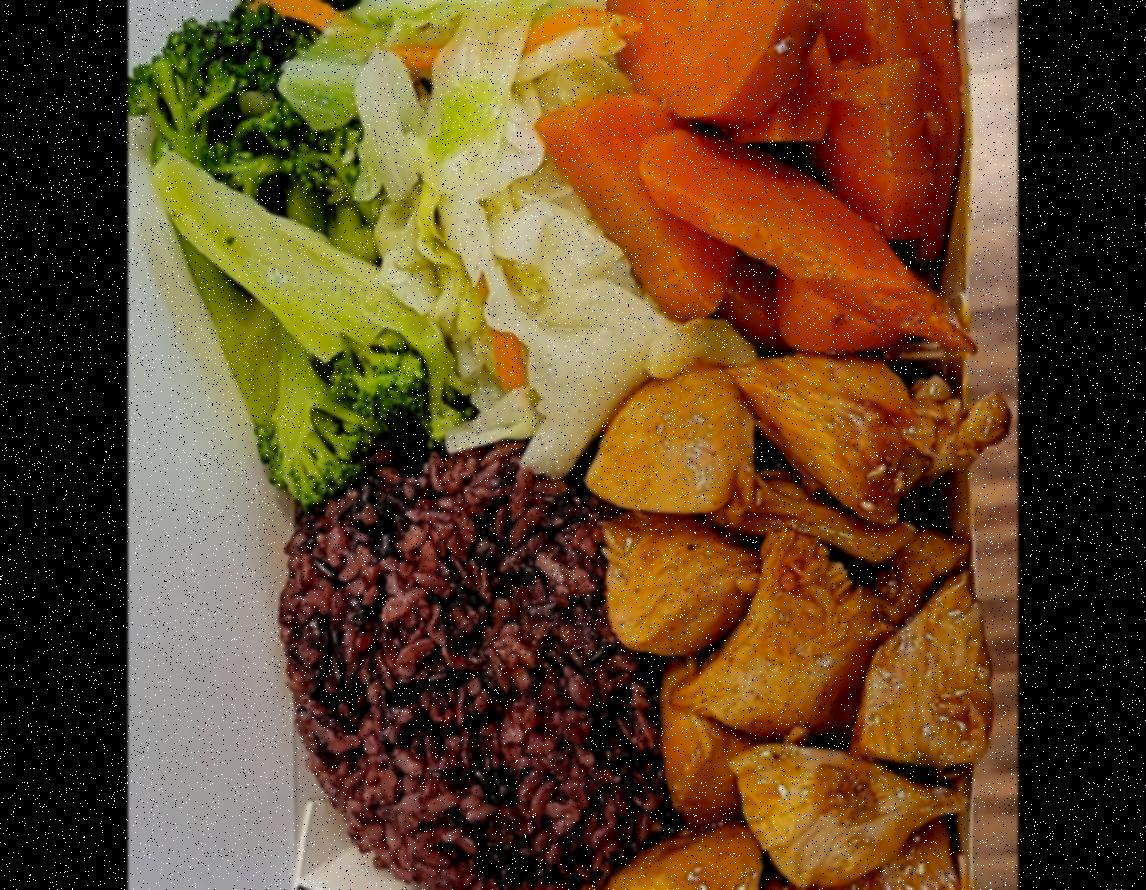big grilled chicken leg: (230, 0, 986, 890)
braised fish: (278, 433, 636, 890)
braised fish fillet: (142, 0, 446, 493), (556, 0, 967, 355), (360, 0, 641, 471)
braised pork: (590, 365, 985, 890)
